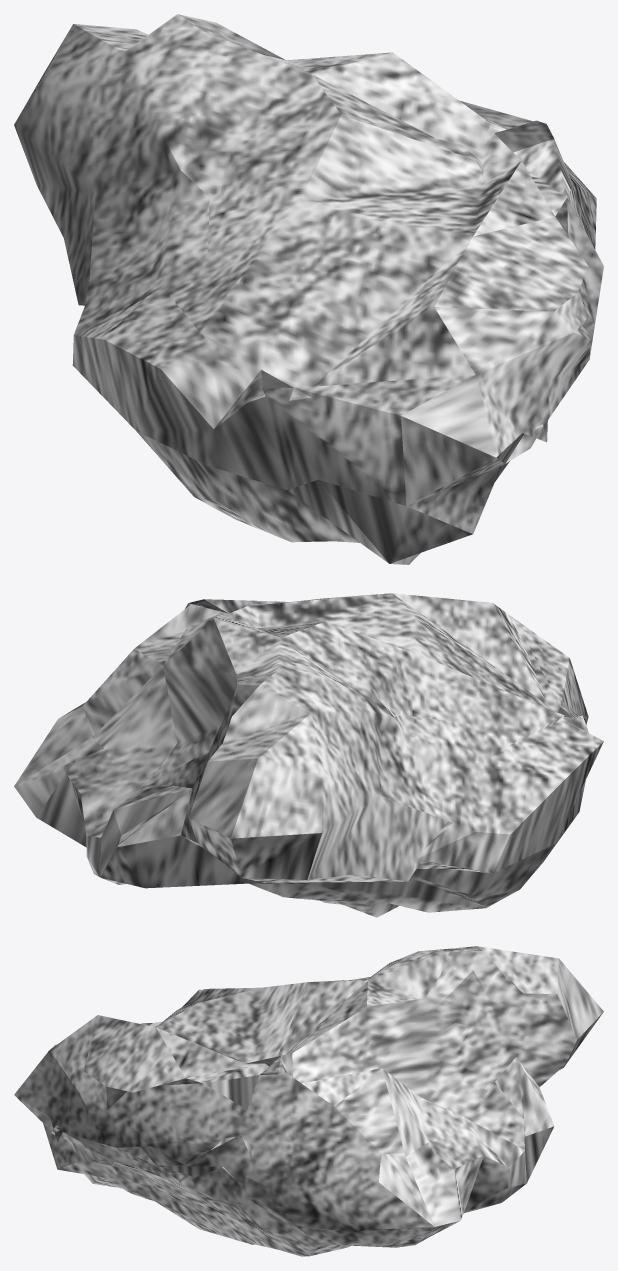
The model's file is Rock_Asset_20.fbx.
The picture shows the model from 3 angles, top to bottom: view 1: azimuth 30°, elevation 25°; view 2: azimuth 150°, elevation 25°; view 3: azimuth 270°, elevation 25°; orthographic projection. The views are drawn at different scales.
Visible parts, largest first — view 1: Rock_Asset; view 2: Rock_Asset; view 3: Rock_Asset.
Part boxes in pixels (<box>): Rock_Asset: <box>14,14,603,564</box>; Rock_Asset: <box>14,593,603,917</box>; Rock_Asset: <box>14,946,603,1256</box>.
Bounding box in the file's own units: 1.53 × 1.05 × 1.99.
Materials: 1 (1 with a texture image).
